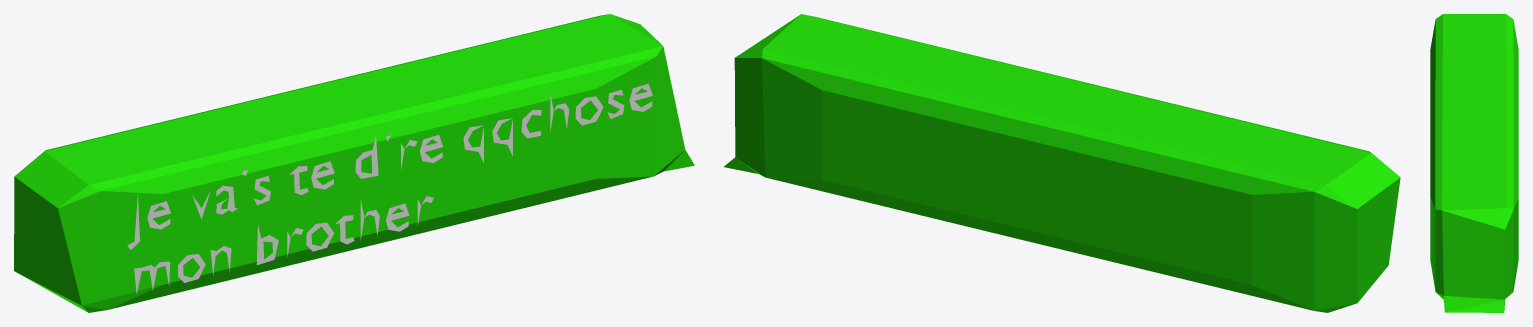
File: message7.fbx
3 renders of one model, left to right at view 1: azimuth 30°, elevation 25°; view 2: azimuth 150°, elevation 25°; view 3: azimuth 270°, elevation 25°, orthographic. The views are drawn at different scales.
Parts seen in each view (by area): view 1: Cube.003; view 2: Cube.003; view 3: Cube.003.
Boxes of the visible parts, x1,y1,x2,y2 form: Cube.003: [14, 14, 694, 312]; Cube.003: [724, 14, 1400, 312]; Cube.003: [1430, 14, 1518, 312].
Size of the model in its own units: 269 by 52.57 by 46.46.
